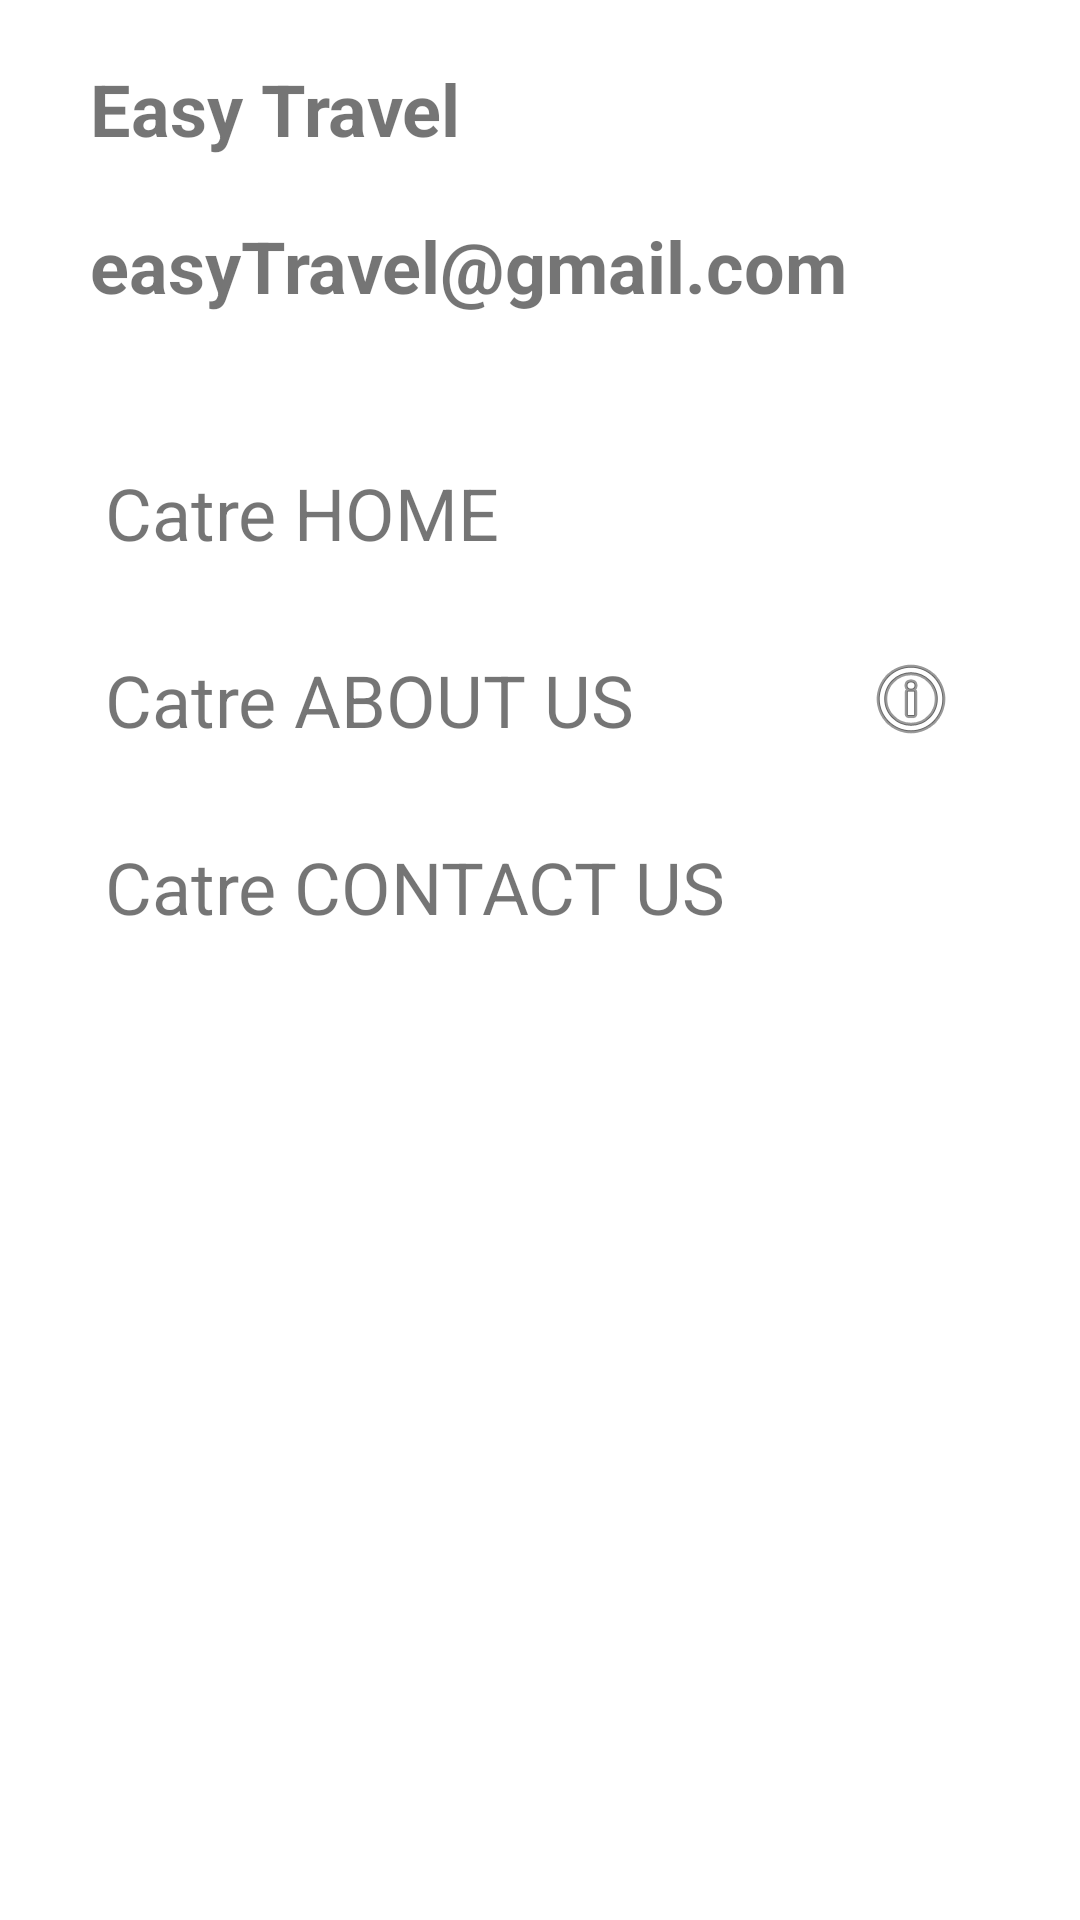

Screen size 1080 × 1920. Icon name, then its box in pixels as (x1, y1, x2, y2):
info details: (876, 664, 946, 734)
